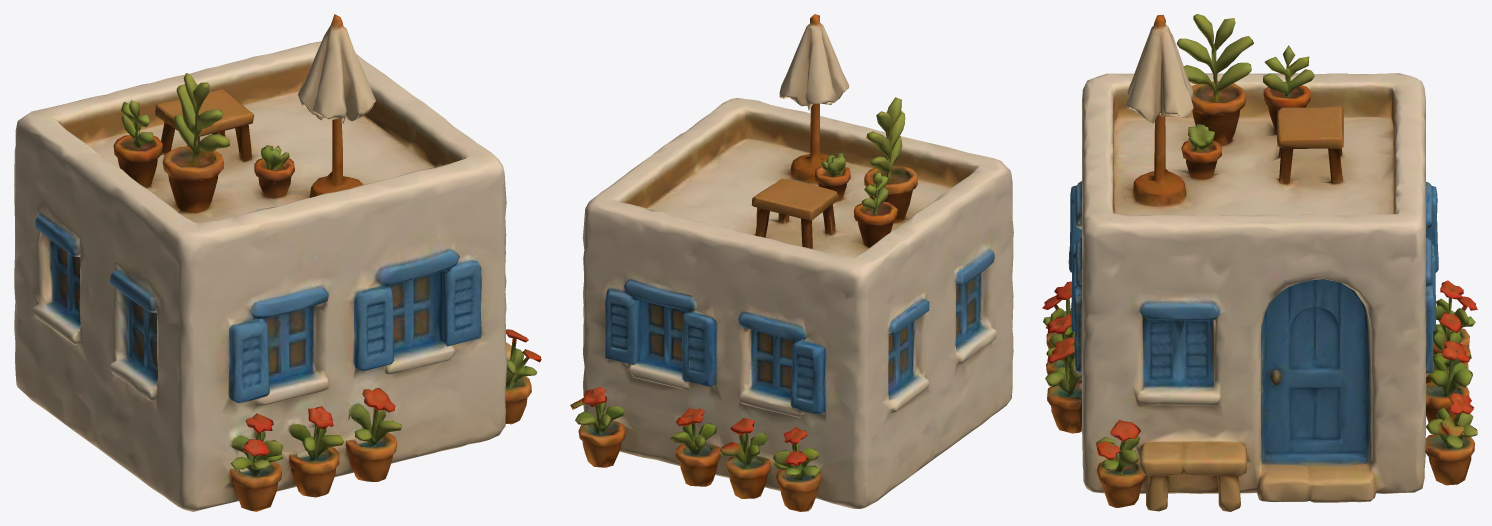
File: house_c.glb
3 renders of one model, left to right at view 1: azimuth 30°, elevation 25°; view 2: azimuth 150°, elevation 25°; view 3: azimuth 270°, elevation 25°, orthographic. The views are drawn at different scales.
Visible parts, largest first — view 1: tripo_node_3e4d55cb-3e83-40dc-811e-a51ba2edc6c4; view 2: tripo_node_3e4d55cb-3e83-40dc-811e-a51ba2edc6c4; view 3: tripo_node_3e4d55cb-3e83-40dc-811e-a51ba2edc6c4.
Part boxes in pixels (x1,y1,x2,y2): tripo_node_3e4d55cb-3e83-40dc-811e-a51ba2edc6c4: (14, 14, 541, 511); tripo_node_3e4d55cb-3e83-40dc-811e-a51ba2edc6c4: (570, 14, 1013, 511); tripo_node_3e4d55cb-3e83-40dc-811e-a51ba2edc6c4: (1042, 14, 1477, 511).
Bounding box in the file's own units: 0.92 × 1 × 0.9438.
1 material, 1 textured.
